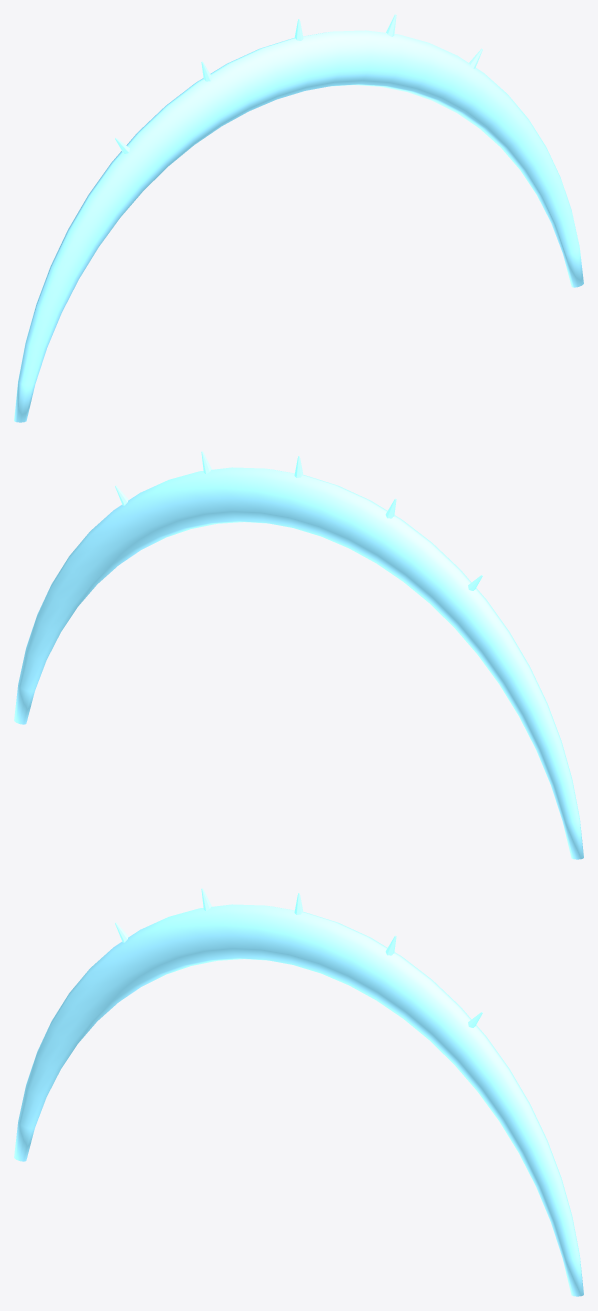
File: opal_whale_rib.glb
The picture shows the model from 3 angles, top to bottom: view 1: azimuth 30°, elevation 25°; view 2: azimuth 150°, elevation 25°; view 3: azimuth 330°, elevation 25°; orthographic projection.
Parts seen in each view (by area): view 1: WhaleRibSweep, SpineCrystal10; view 2: WhaleRibSweep, SpineCrystal10; view 3: WhaleRibSweep, SpineCrystal10.
Part boxes in pixels (box(x1,y1,x2,y2)): WhaleRibSweep: box(14, 30, 583, 422); SpineCrystal10: box(115, 14, 482, 153); WhaleRibSweep: box(14, 467, 583, 859); SpineCrystal10: box(115, 451, 482, 590); WhaleRibSweep: box(14, 904, 583, 1296); SpineCrystal10: box(115, 888, 482, 1027).
Size of the model in its own units: 20.58 by 11.56 by 1.22.
